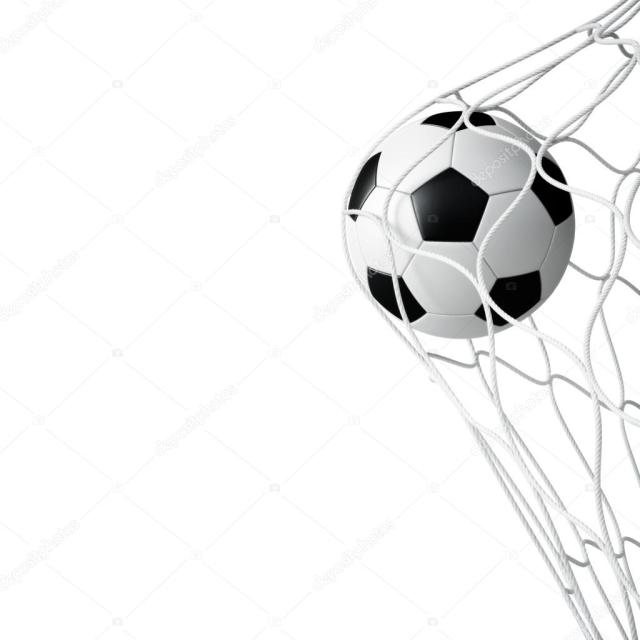soccer ball: (344, 100, 574, 342)
